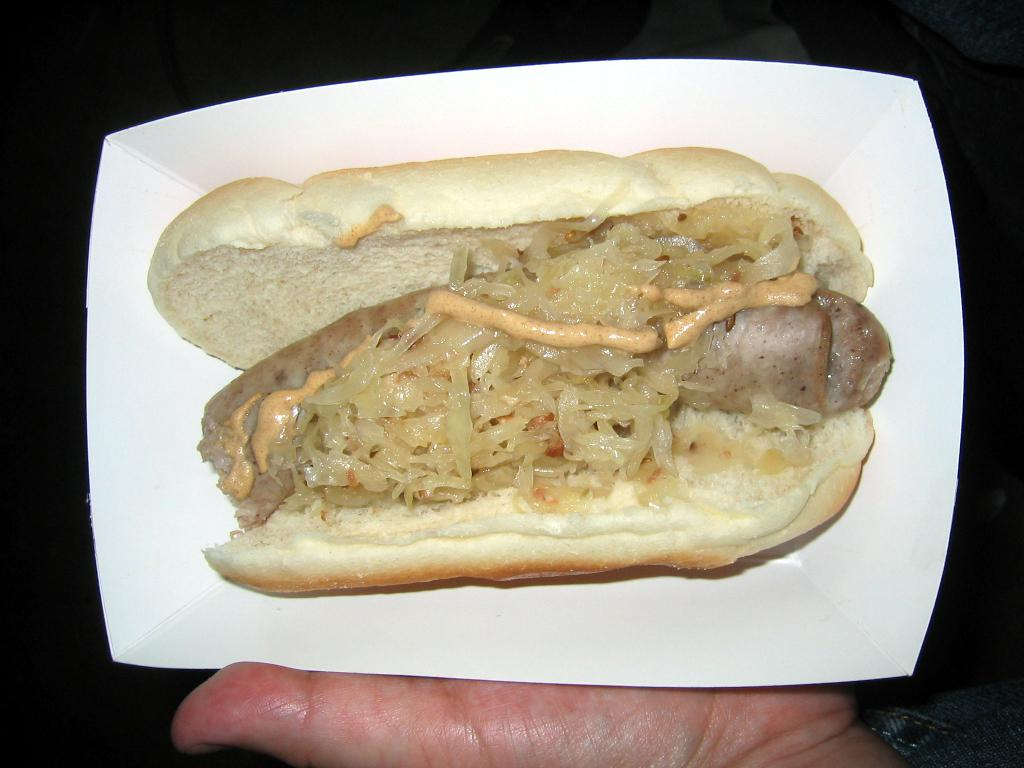sandwich: (144, 146, 890, 599)
